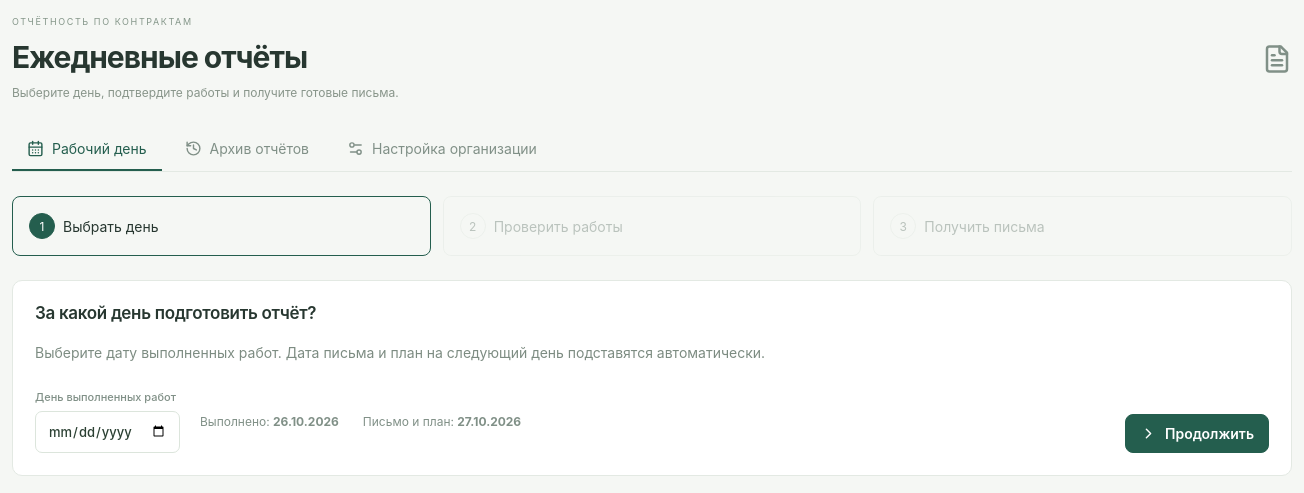
Test: does not crash when the report date input is cleared
Clear the date field labelled "День выполненных работ" at (108, 432), box x1=35 y1=411 x2=180 y2=453
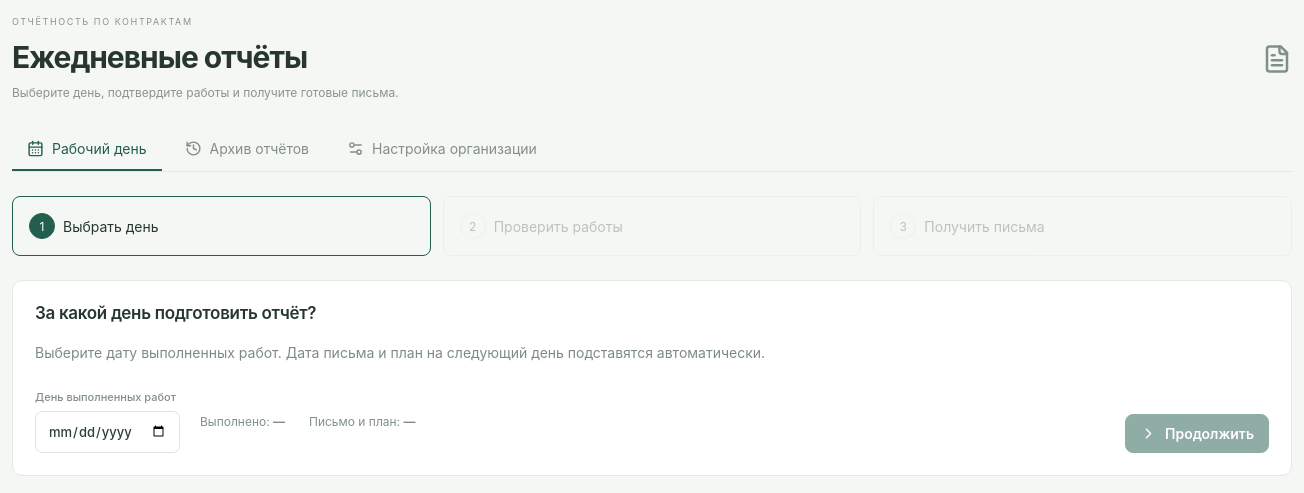
Expected: the text "За какой день подготовить отчёт" is shown, x1=35 y1=303 x2=316 y2=323
Expected: the button "Продолжить" is disabled, x1=1125 y1=414 x2=1269 y2=453
